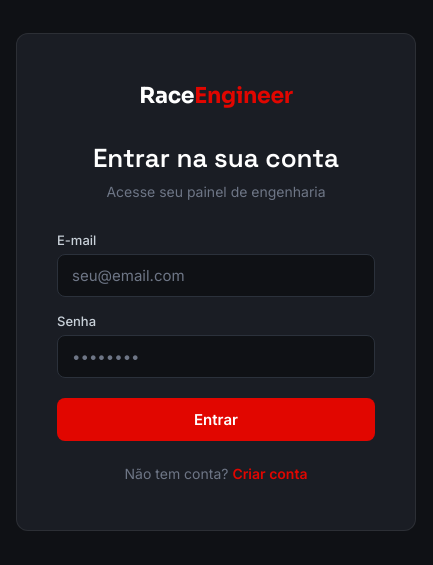
LoginPage › error handling › displays the error message returned by the API on register failure
The width and height of the screenshot is (433, 565).
Click the button "Criar conta": [270, 474] box [232, 465, 307, 482]
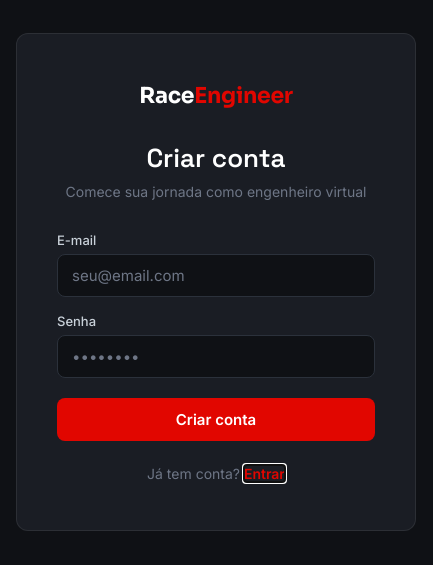
In the field labelled "E-mail": [216, 276] box [57, 254, 375, 297], type "existing@example.com"
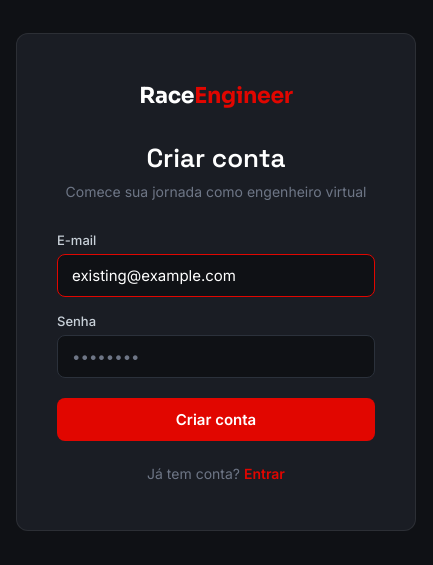
In the password field labelled "Senha": [216, 356] box [57, 335, 375, 378], type "somepass"
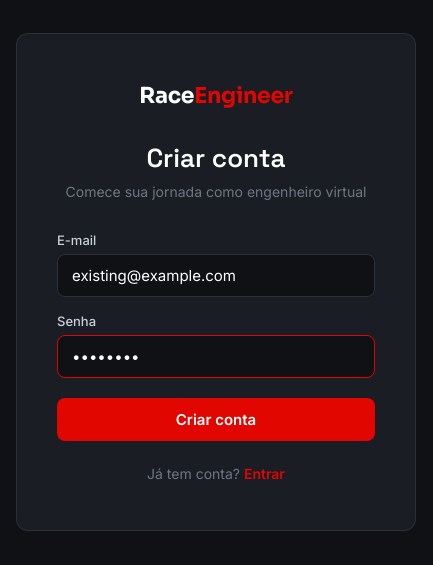
Click the button "Criar conta": [216, 420] box [57, 398, 375, 441]
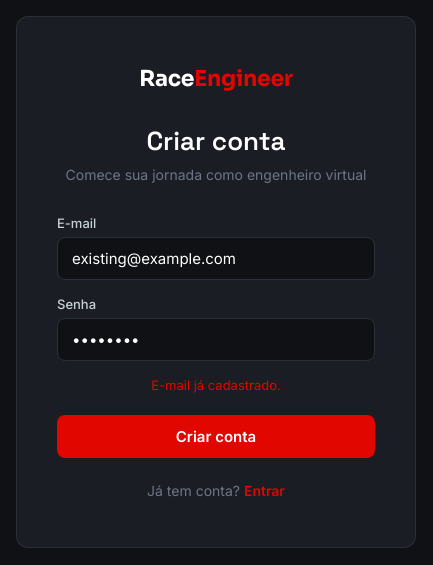
Now the message reads "E-mail já cadastrado.", box [151, 377, 281, 393]
